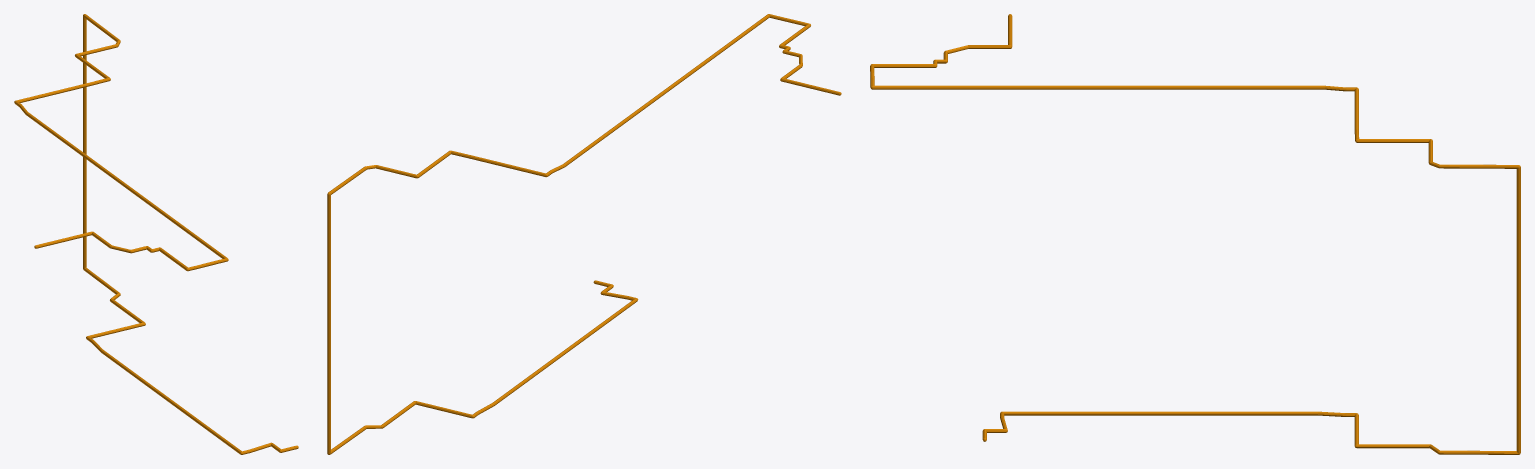
The picture shows the model from 3 angles, left to right: view 1: azimuth 30°, elevation 25°; view 2: azimuth 150°, elevation 25°; view 3: azimuth 270°, elevation 25°; orthographic projection. The views are drawn at different scales.
Bounding box in the file's own units: 1717 × 1520 × 3092.
